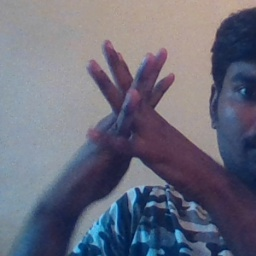W: (79, 33, 184, 176)
